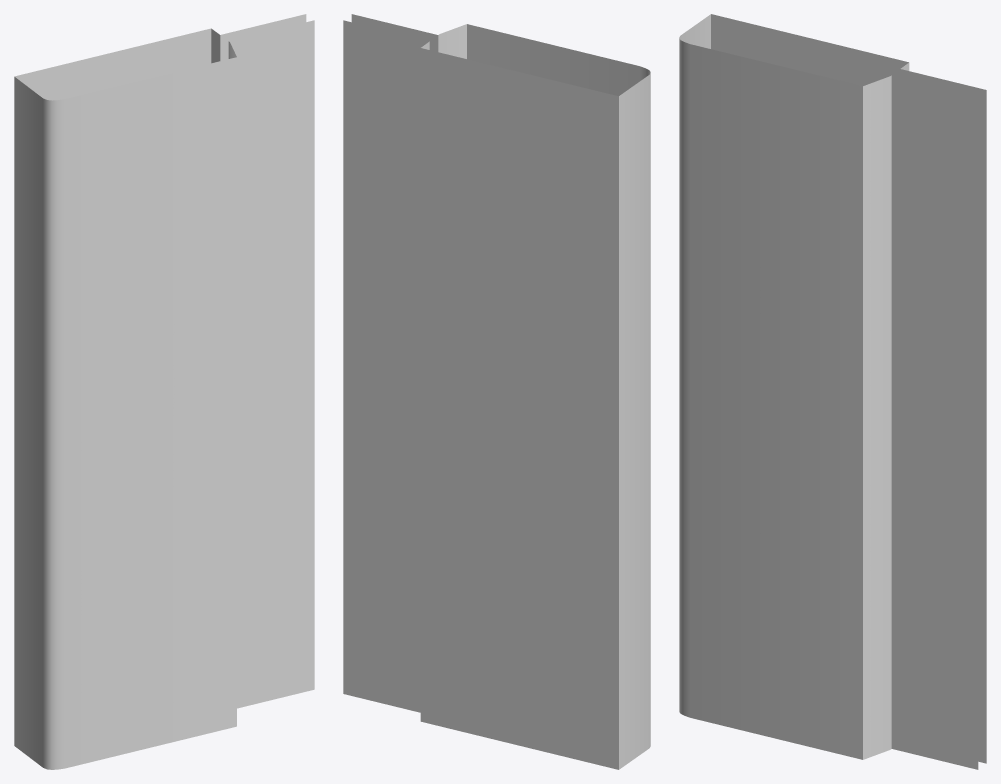
Rendered from original-85.obj.
The picture shows the model from 3 angles, left to right: view 1: azimuth 30°, elevation 25°; view 2: azimuth 150°, elevation 25°; view 3: azimuth 330°, elevation 25°; orthographic projection.
Visible parts, largest first — view 1: DF_21_CL2/DF_21_CL/mesh44/mesh44-geometry#mesh44-geometry; view 2: DF_21_CL2/DF_21_CL/mesh44/mesh44-geometry#mesh44-geometry; view 3: DF_21_CL2/DF_21_CL/mesh44/mesh44-geometry#mesh44-geometry.
Part boxes in pixels (box(x1,y1,x2,y2)): DF_21_CL2/DF_21_CL/mesh44/mesh44-geometry#mesh44-geometry: box(14, 14, 314, 769); DF_21_CL2/DF_21_CL/mesh44/mesh44-geometry#mesh44-geometry: box(343, 14, 650, 769); DF_21_CL2/DF_21_CL/mesh44/mesh44-geometry#mesh44-geometry: box(679, 14, 986, 769).
Bounding box in the file's own units: 0.1444 × 0.3256 × 0.0316.
